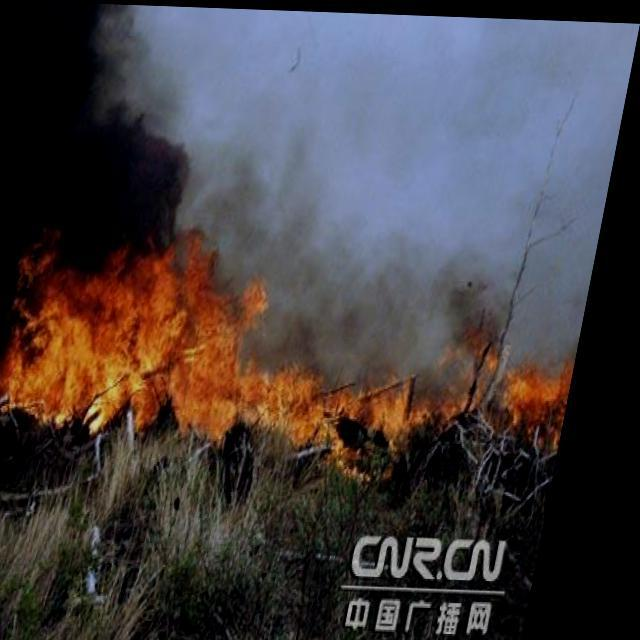Fire: (0, 219, 603, 486)
